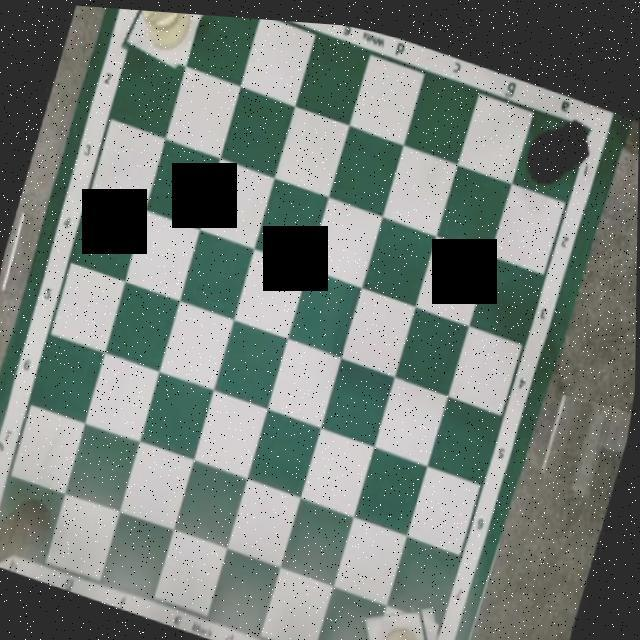chess-table-corners: (566, 99, 606, 140), (0, 519, 14, 563)
